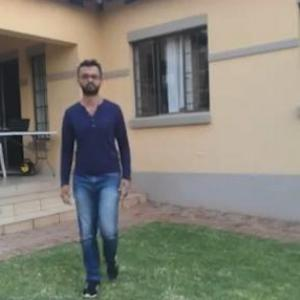follow: (61, 50, 136, 299)
